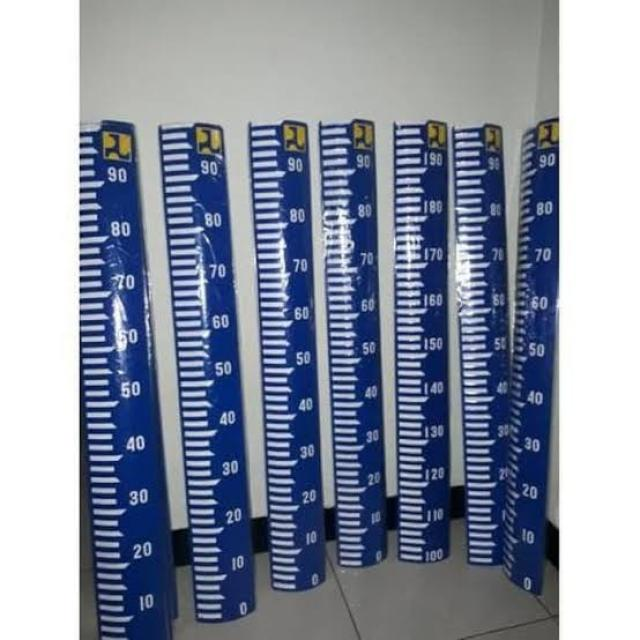staff: (160, 126, 248, 624), (247, 120, 317, 600), (315, 117, 386, 570), (447, 122, 518, 560), (385, 119, 452, 562)
